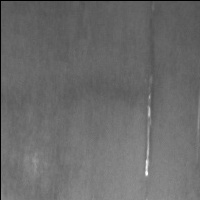scratches: (142, 72, 155, 179)
